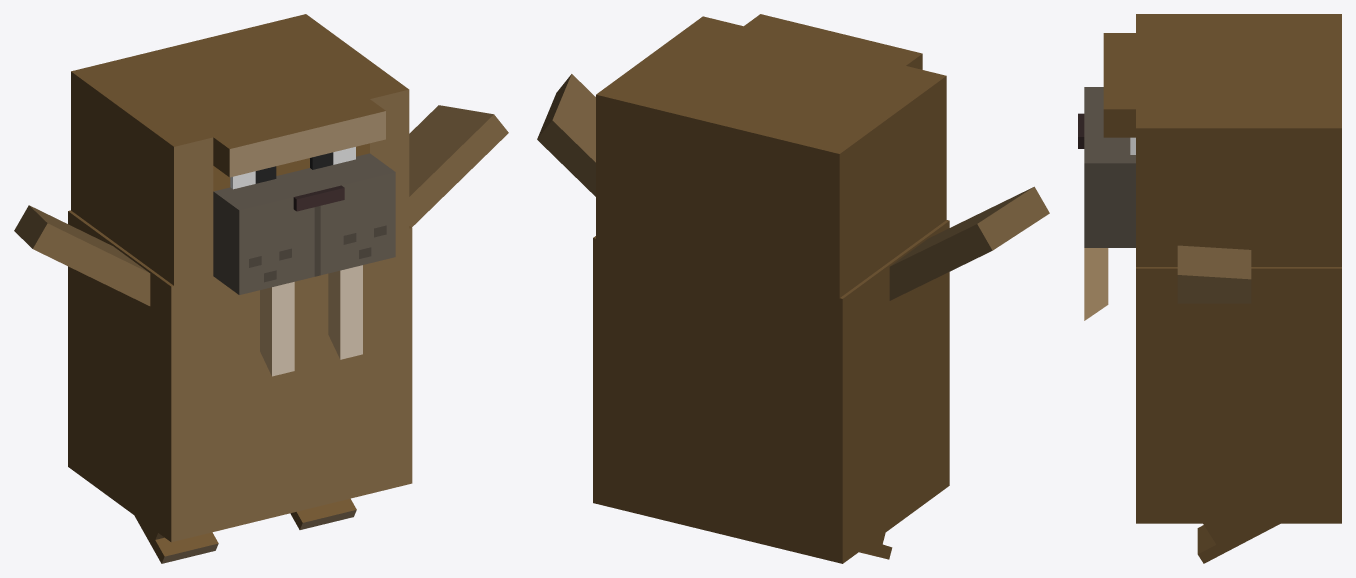
Rendered from Ch_186@Down.FBX.
3 renders of one model, left to right at view 1: azimuth 30°, elevation 25°; view 2: azimuth 150°, elevation 25°; view 3: azimuth 270°, elevation 25°, orthographic. The views are drawn at different scales.
Visible parts, largest first — view 1: Ch_186_Head, Ch_186, Ch_186_Arm_R, Ch_186_Arm_L, Ch_186_Leg_L, Ch_186_Eye_01, Ch_186_Leg_R; view 2: Ch_186, Ch_186_Head, Ch_186_Arm_L, Ch_186_Arm_R; view 3: Ch_186_Head, Ch_186, Ch_186_Arm_R, Ch_186_Leg_R.
Boxes of the visible parts, bbox=[...] form: Ch_186_Head: bbox=[71, 14, 409, 376]; Ch_186: bbox=[68, 210, 412, 542]; Ch_186_Arm_R: bbox=[409, 105, 508, 227]; Ch_186_Arm_L: bbox=[14, 205, 150, 305]; Ch_186_Leg_L: bbox=[134, 515, 218, 563]; Ch_186_Eye_01: bbox=[230, 147, 355, 189]; Ch_186_Leg_R: bbox=[290, 498, 356, 529]; Ch_186: bbox=[593, 220, 949, 563]; Ch_186_Head: bbox=[596, 14, 946, 297]; Ch_186_Arm_L: bbox=[889, 186, 1049, 300]; Ch_186_Arm_R: bbox=[537, 74, 595, 196]; Ch_186_Head: bbox=[1078, 14, 1341, 320]; Ch_186: bbox=[1136, 267, 1341, 523]; Ch_186_Arm_R: bbox=[1177, 245, 1251, 303]; Ch_186_Leg_R: bbox=[1197, 523, 1280, 563].
Bounding box in the file's own units: 12.76 × 11.45 × 6.13.
